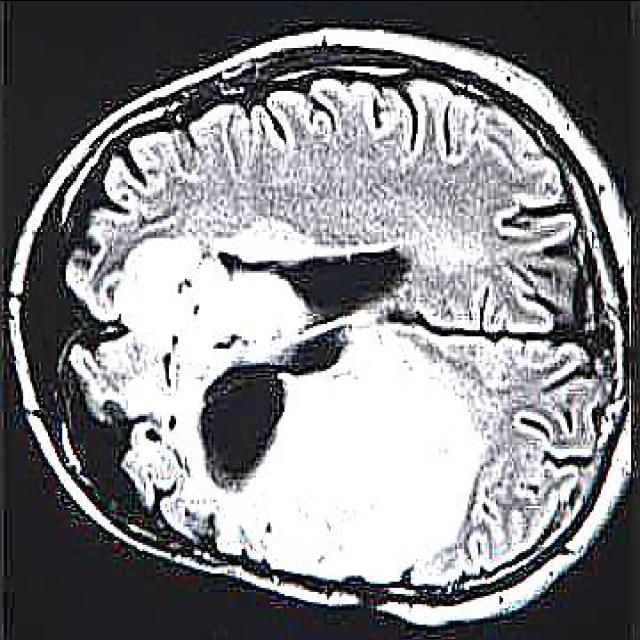tumor: (116, 219, 482, 583)
